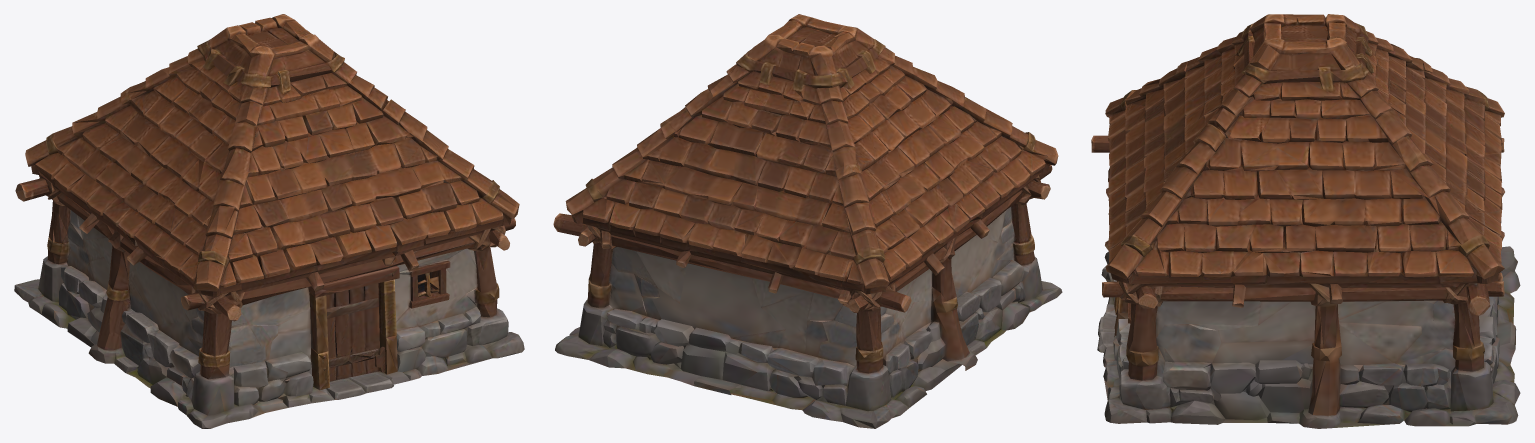
File: house.glb
3 views of the same model, side by side, from view 1: azimuth 30°, elevation 25°; view 2: azimuth 150°, elevation 25°; view 3: azimuth 270°, elevation 25° (orthographic). The views are drawn at different scales.
Size of the model in its own units: 1.9 by 1.5 by 1.88.
1 material, 1 textured.
